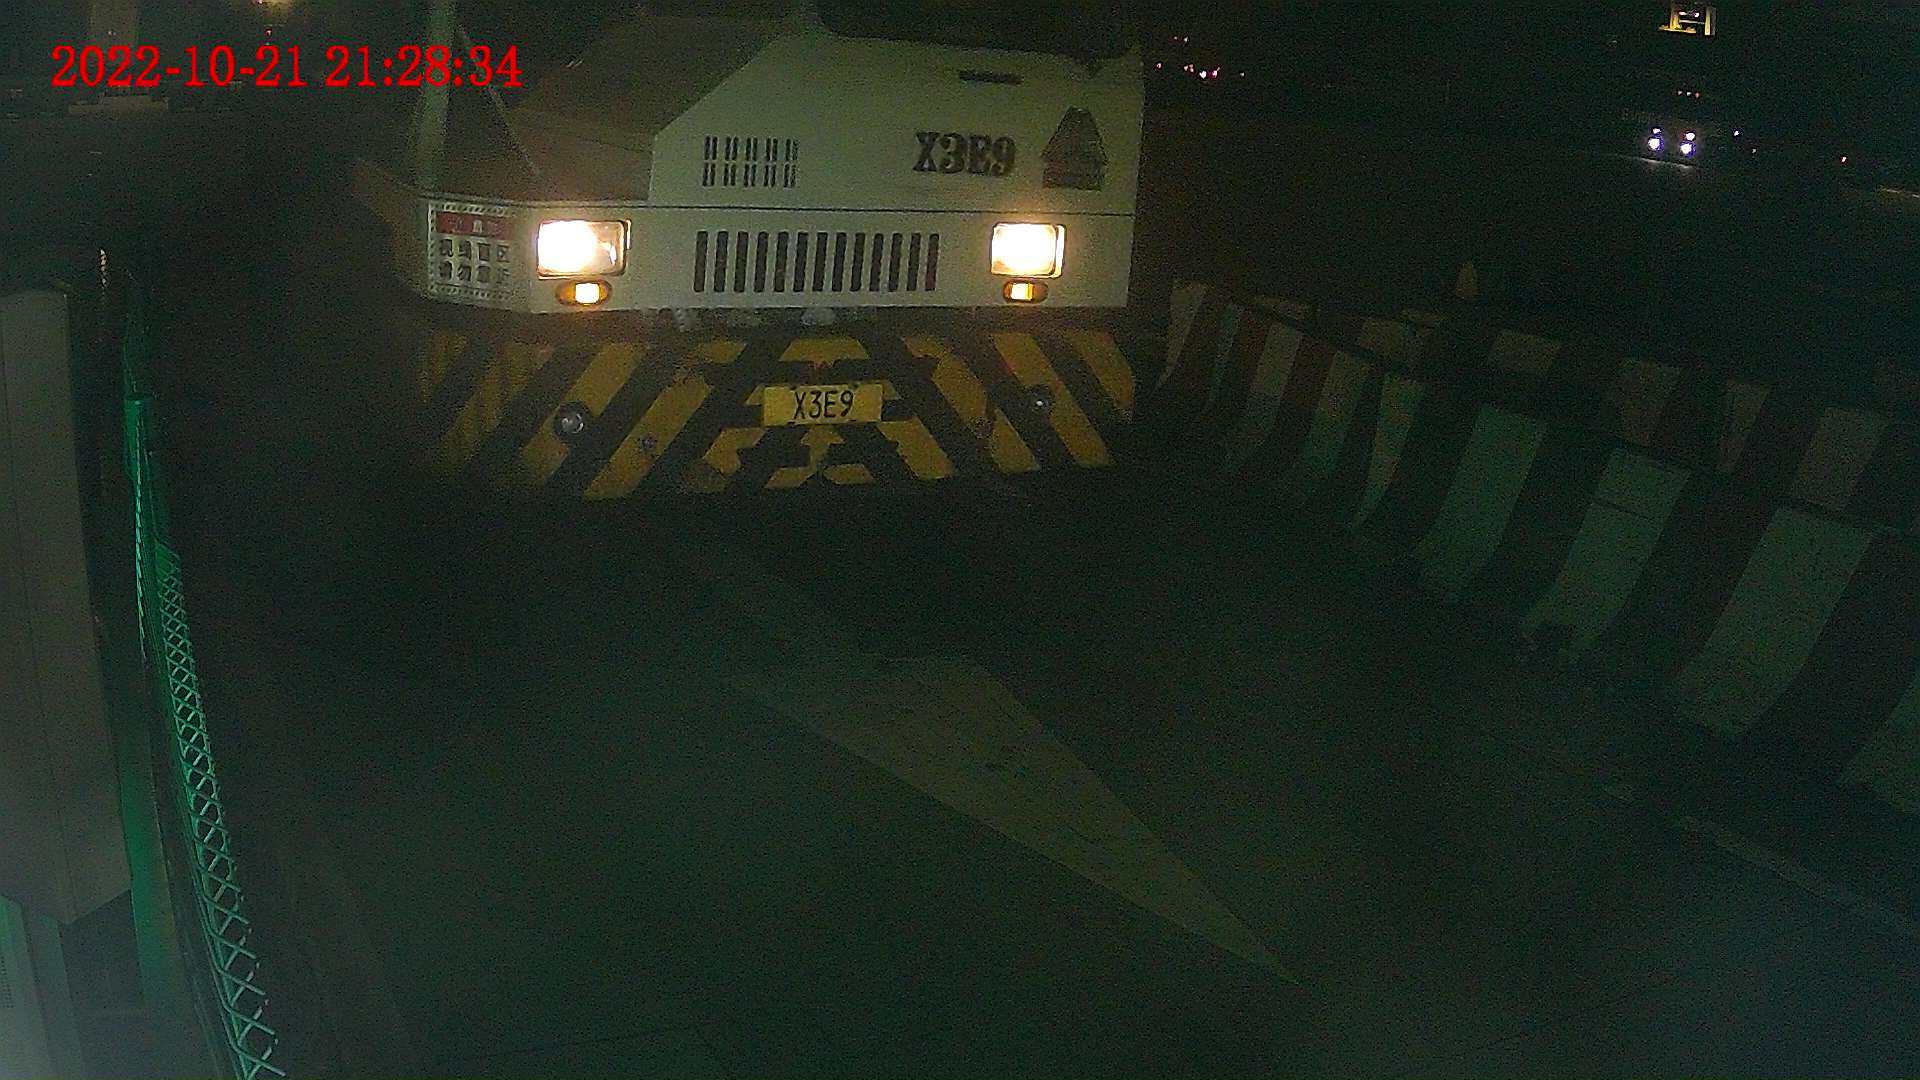head: (290, 1, 1141, 502)
plate: (760, 384, 883, 431)
